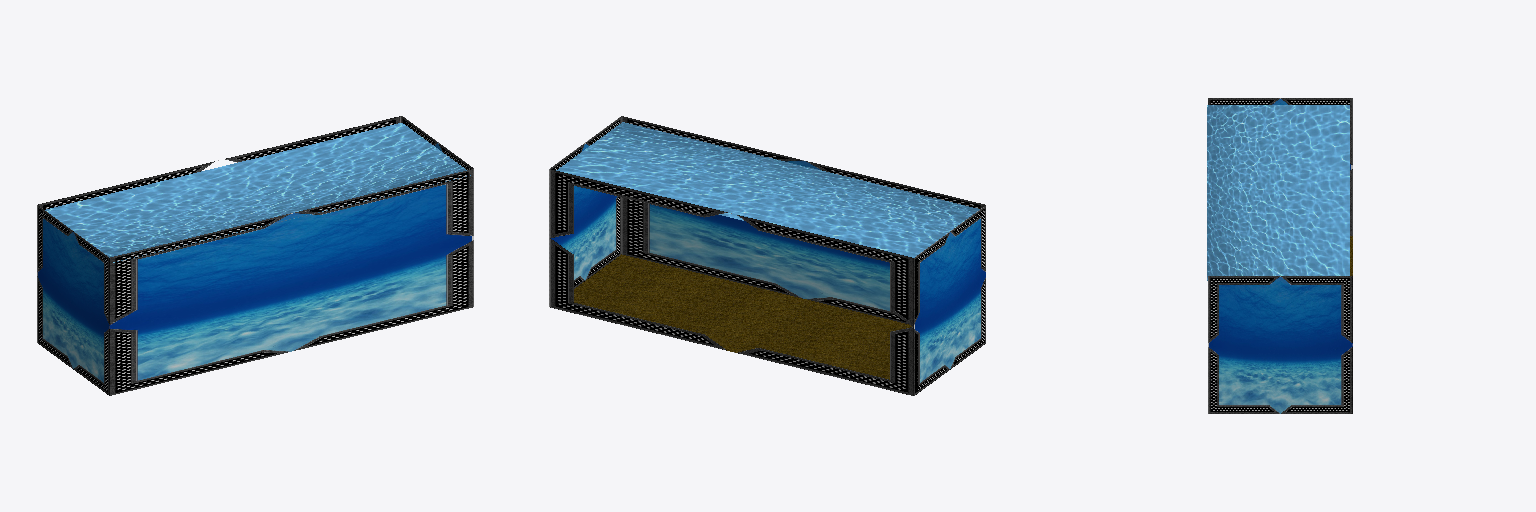
3 views of the same model, side by side, from view 1: azimuth 30°, elevation 25°; view 2: azimuth 150°, elevation 25°; view 3: azimuth 270°, elevation 25° (orthographic).
Parts seen in each view (by area): view 1: Box002; view 2: Box002; view 3: Box002.
Boxes of the visible parts, x1,y1,x2,y2 form: Box002: [37, 116, 473, 395]; Box002: [549, 116, 985, 395]; Box002: [1207, 98, 1352, 413].
Size of the model in its own units: 798 by 289 by 275.
Materials: 4 (4 with a texture image).